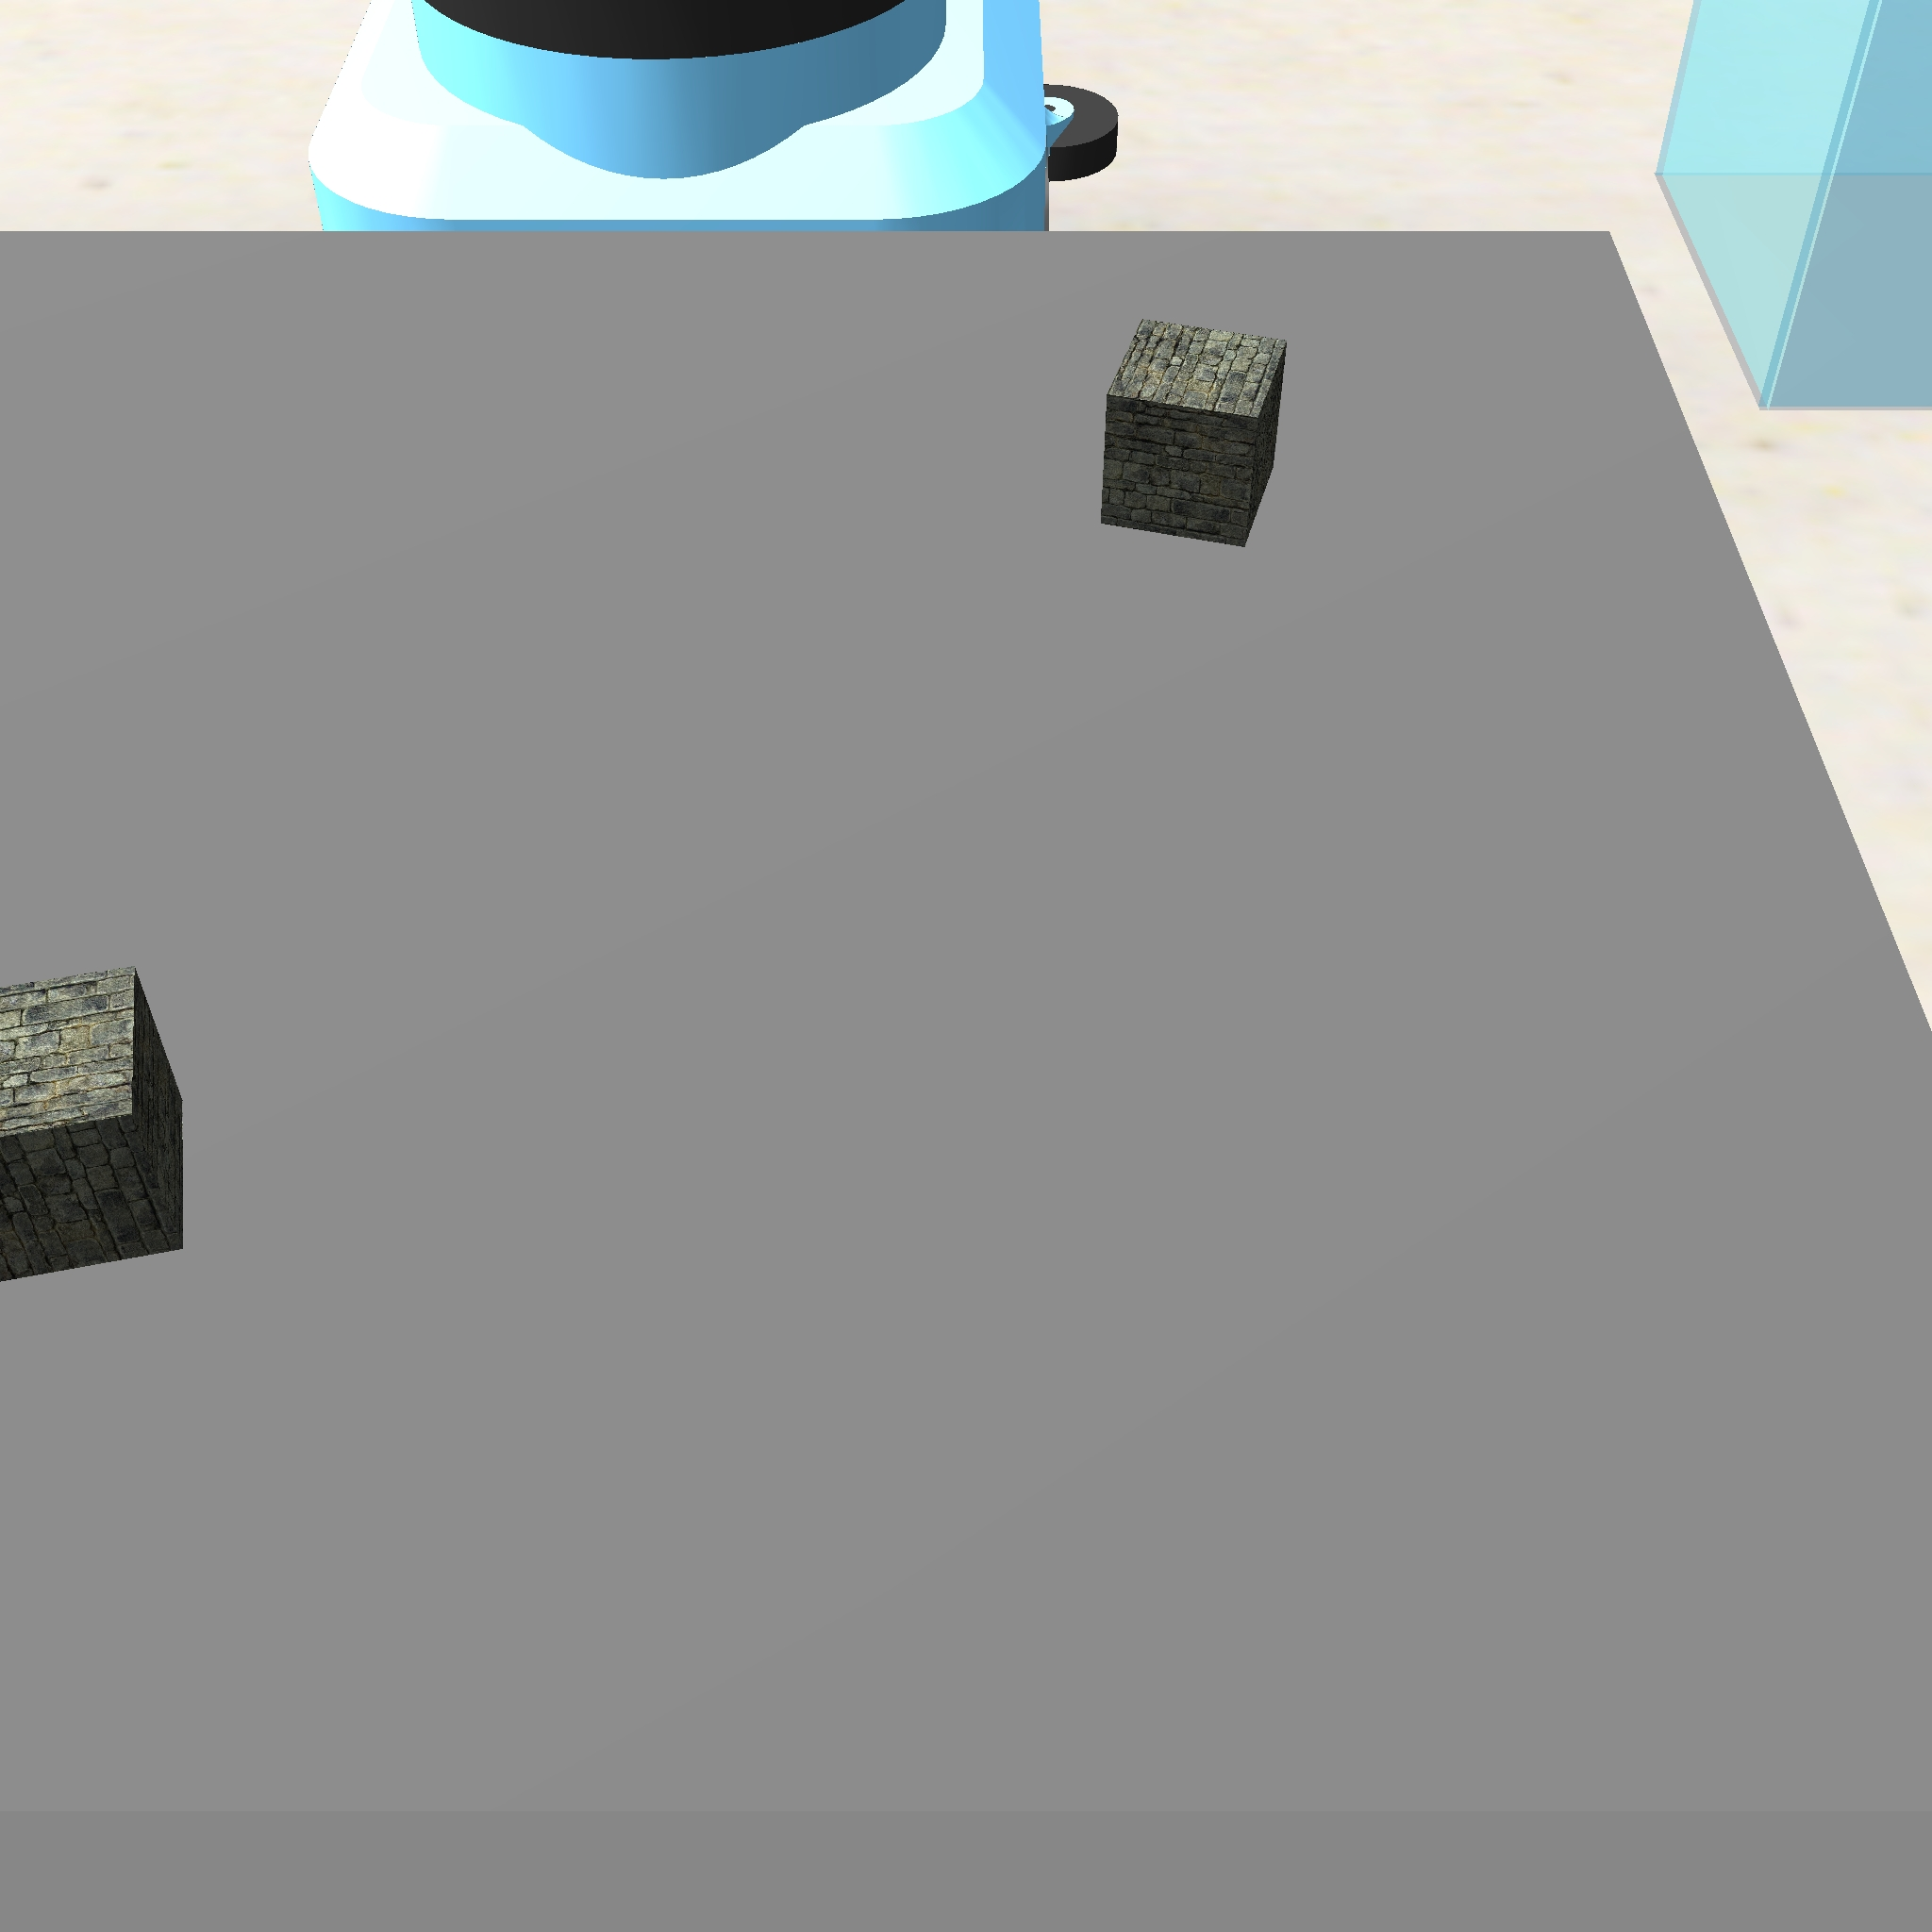cube: (0, 954, 196, 1292), (1092, 308, 1295, 556)
